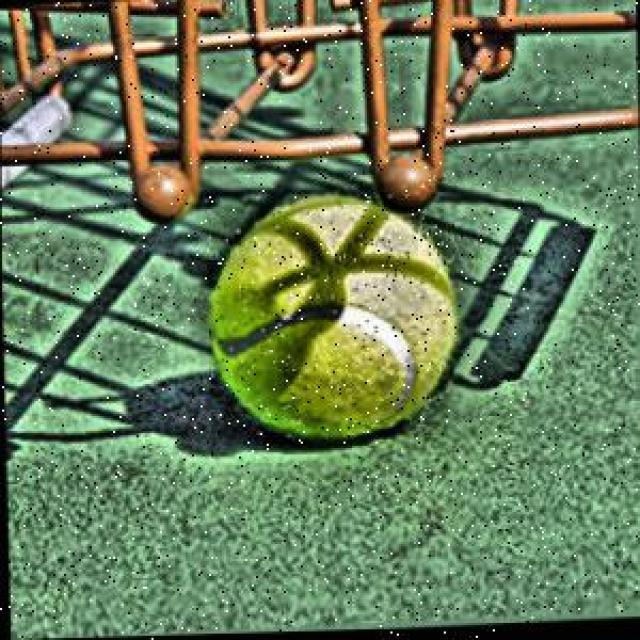tennis-ball: (205, 180, 452, 451)
